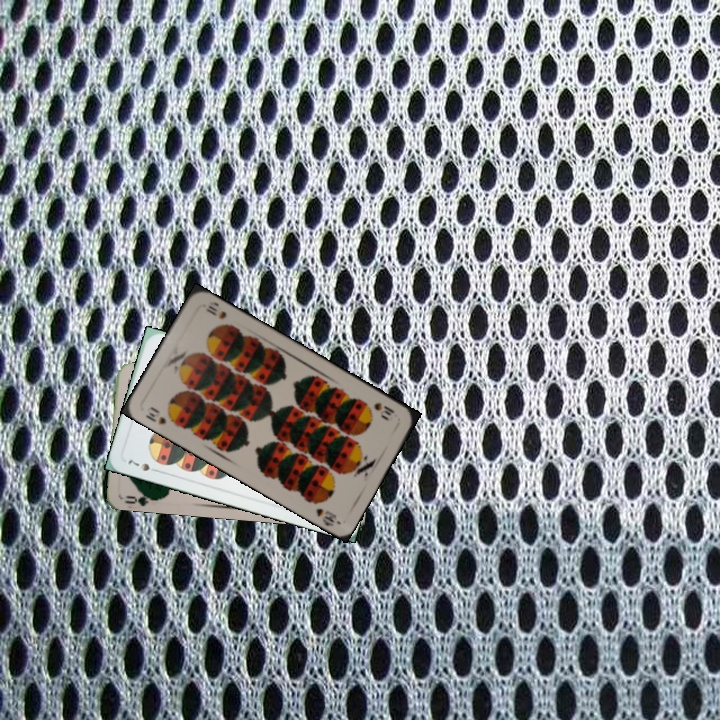GO: (120, 487, 161, 507)
S10: (142, 403, 178, 427), (370, 398, 397, 423)
S7: (124, 453, 162, 475)
